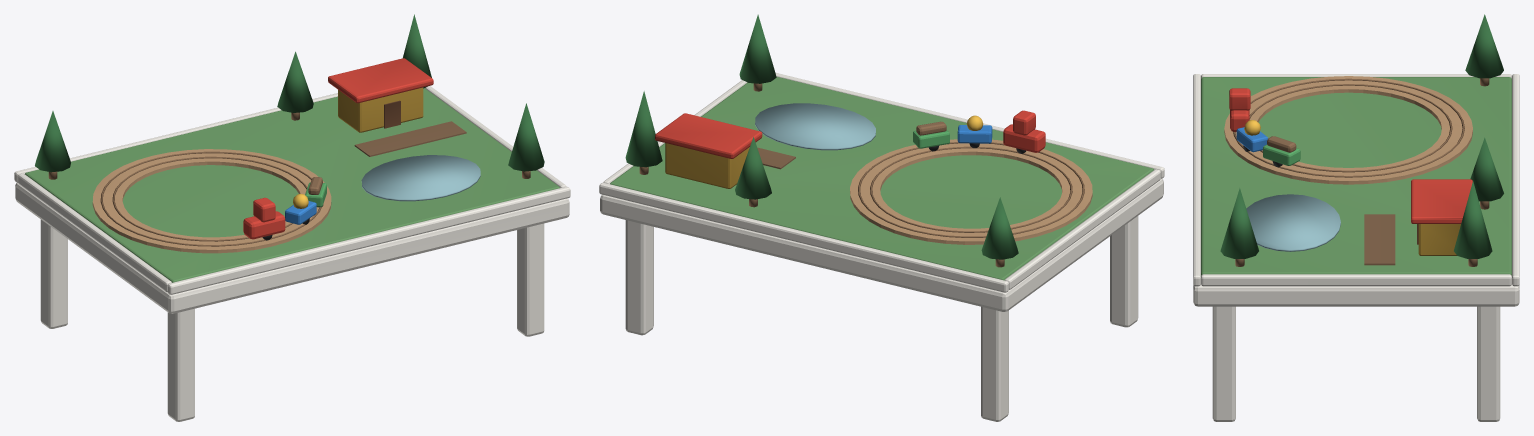
File: trainTable.glb
3 views of the same model, side by side, from view 1: azimuth 30°, elevation 25°; view 2: azimuth 150°, elevation 25°; view 3: azimuth 270°, elevation 25° (orthographic). The views are drawn at different scales.
Visible parts, largest first — view 1: body, train; view 2: body, train; view 3: body, train.
Part boxes in pixels (x1,y1,x2,y2): body: (14, 14, 570, 421); train: (243, 177, 326, 240); body: (599, 14, 1164, 421); train: (913, 110, 1045, 153); body: (1193, 14, 1519, 421); train: (1229, 88, 1300, 167).
Bounding box in the file's own units: 1.24 × 0.68 × 0.84.
